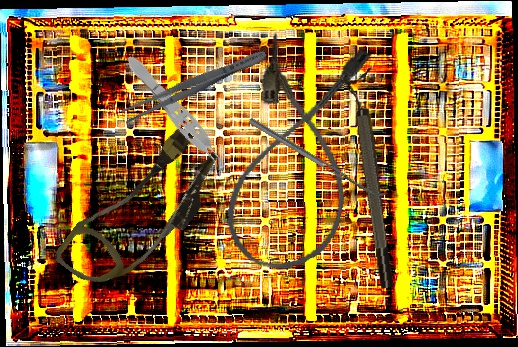Cannula: (217, 27, 379, 282), (51, 112, 233, 311)
Dressing Forceps: (119, 45, 270, 126)
Fixation Ring: (341, 68, 398, 290)
Spatula Surgical: (248, 112, 388, 203)
Tissue Forceps: (119, 49, 235, 181)
